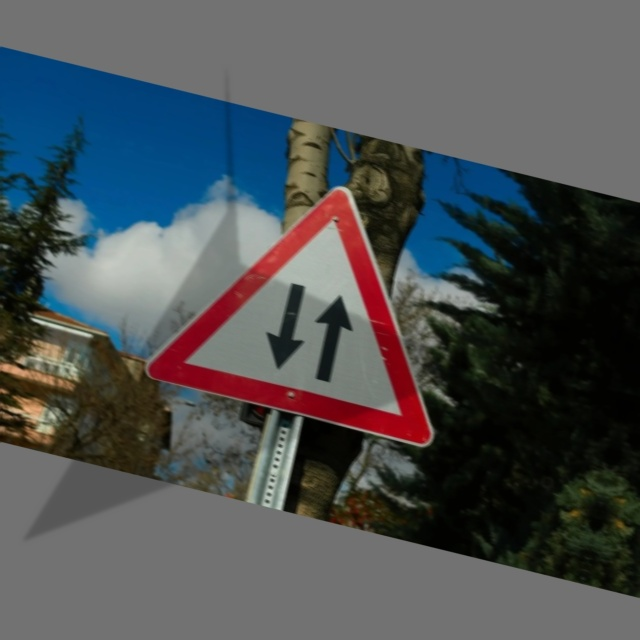Mandatory_Two_Way_Traffic: (141, 152, 486, 453)
